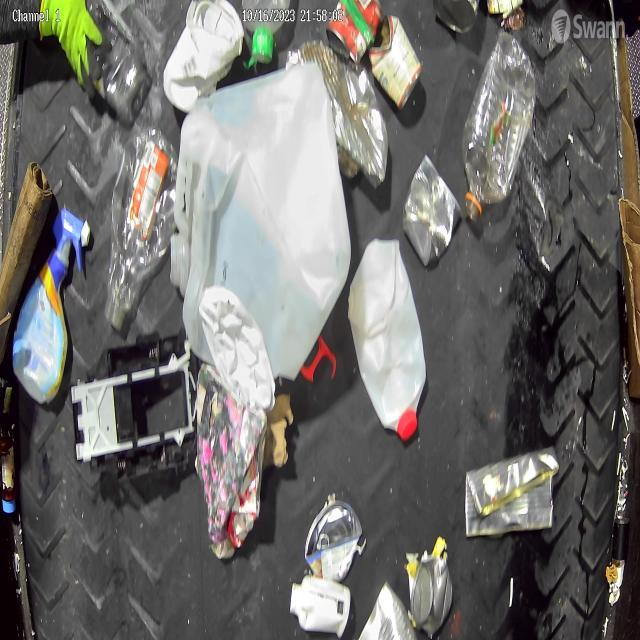can: (282, 40, 390, 194), (401, 154, 462, 271), (368, 11, 423, 110), (303, 499, 364, 584), (326, 0, 384, 70), (412, 551, 454, 639)
milk_jug: (168, 60, 352, 383), (346, 236, 428, 444)
plastic_bottle: (102, 122, 182, 330), (460, 25, 540, 226), (96, 16, 149, 125)
